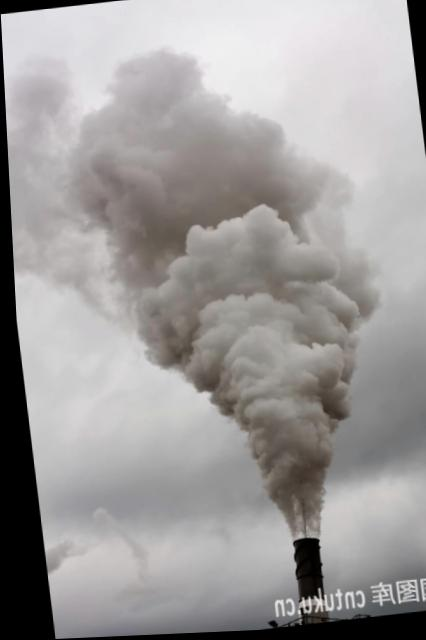smoke: (229, 147, 319, 488), (143, 107, 250, 379), (5, 126, 142, 253), (301, 229, 355, 365), (116, 60, 184, 114)
